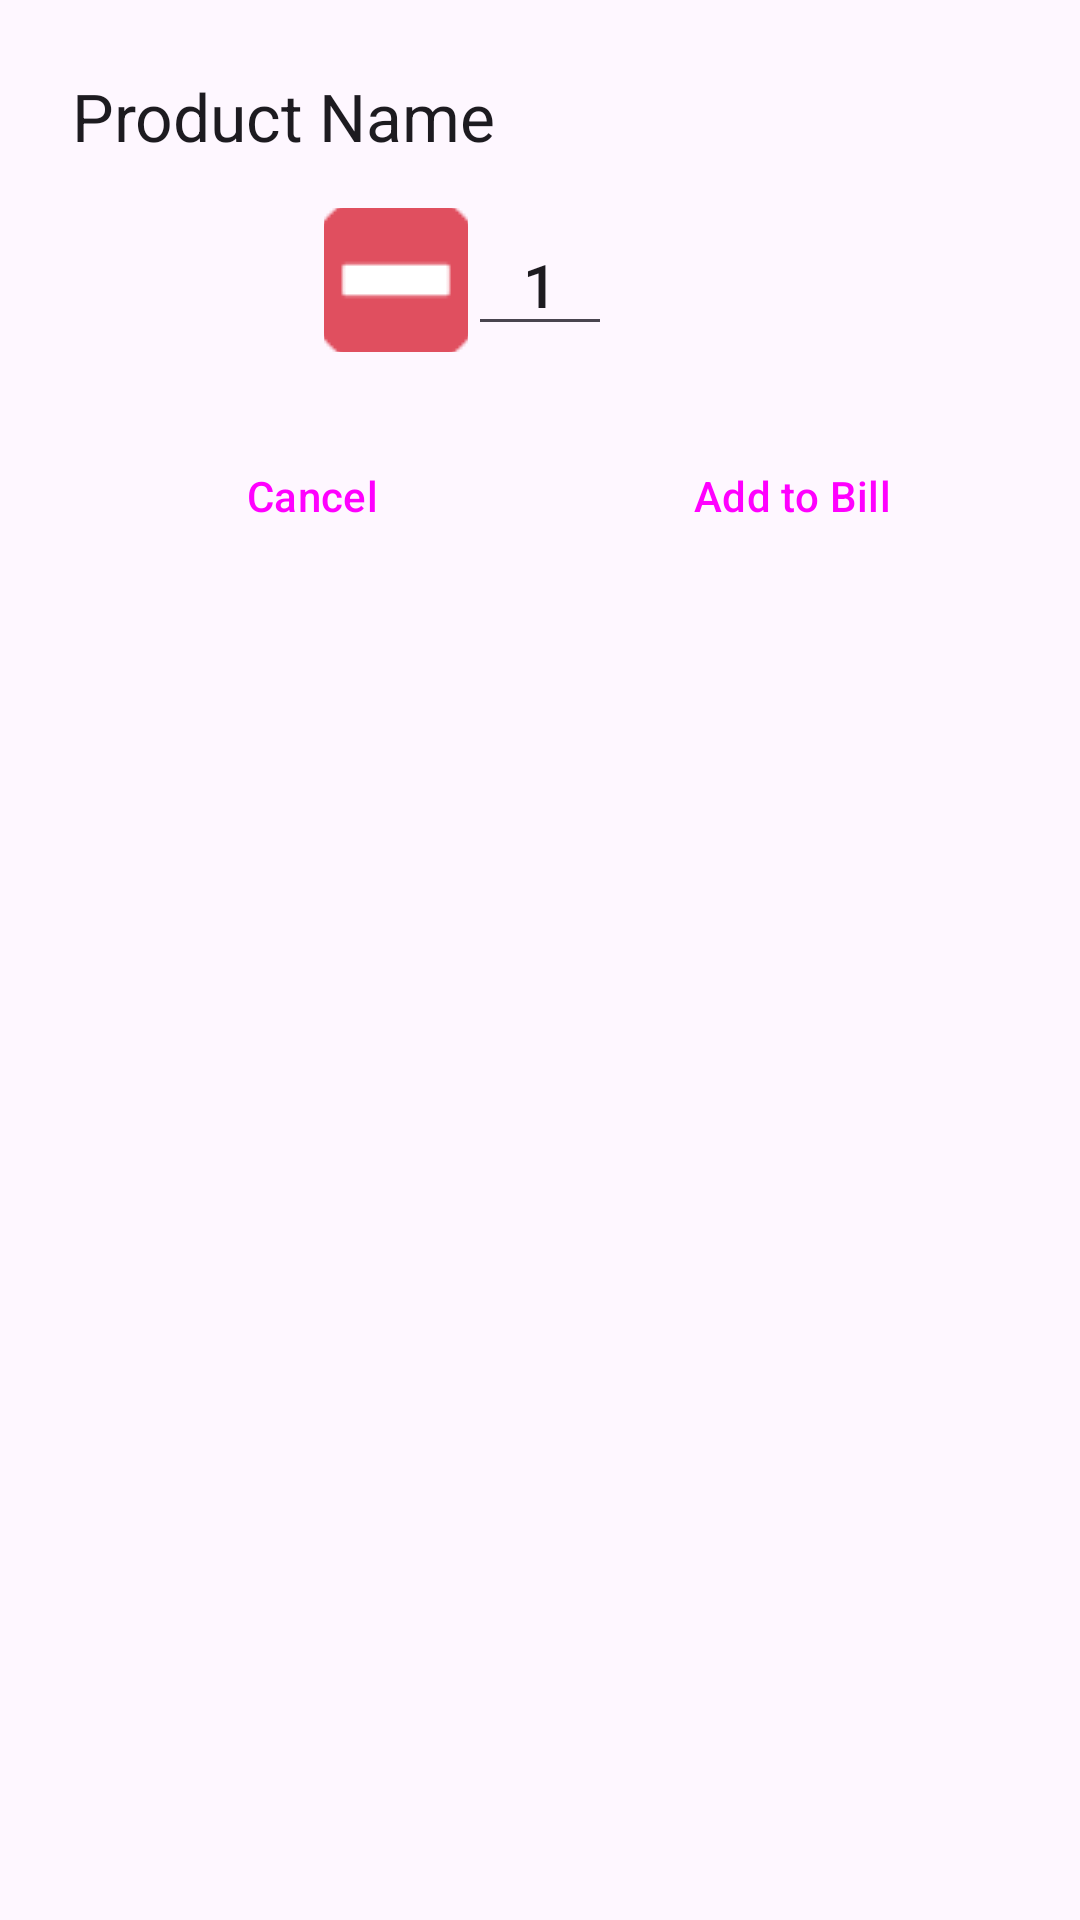

Where icons sit on this 1080px x 1920px app screen, as bbox(x1, y1, x2, y2):
Decrease quantity: bbox(324, 208, 468, 352)
